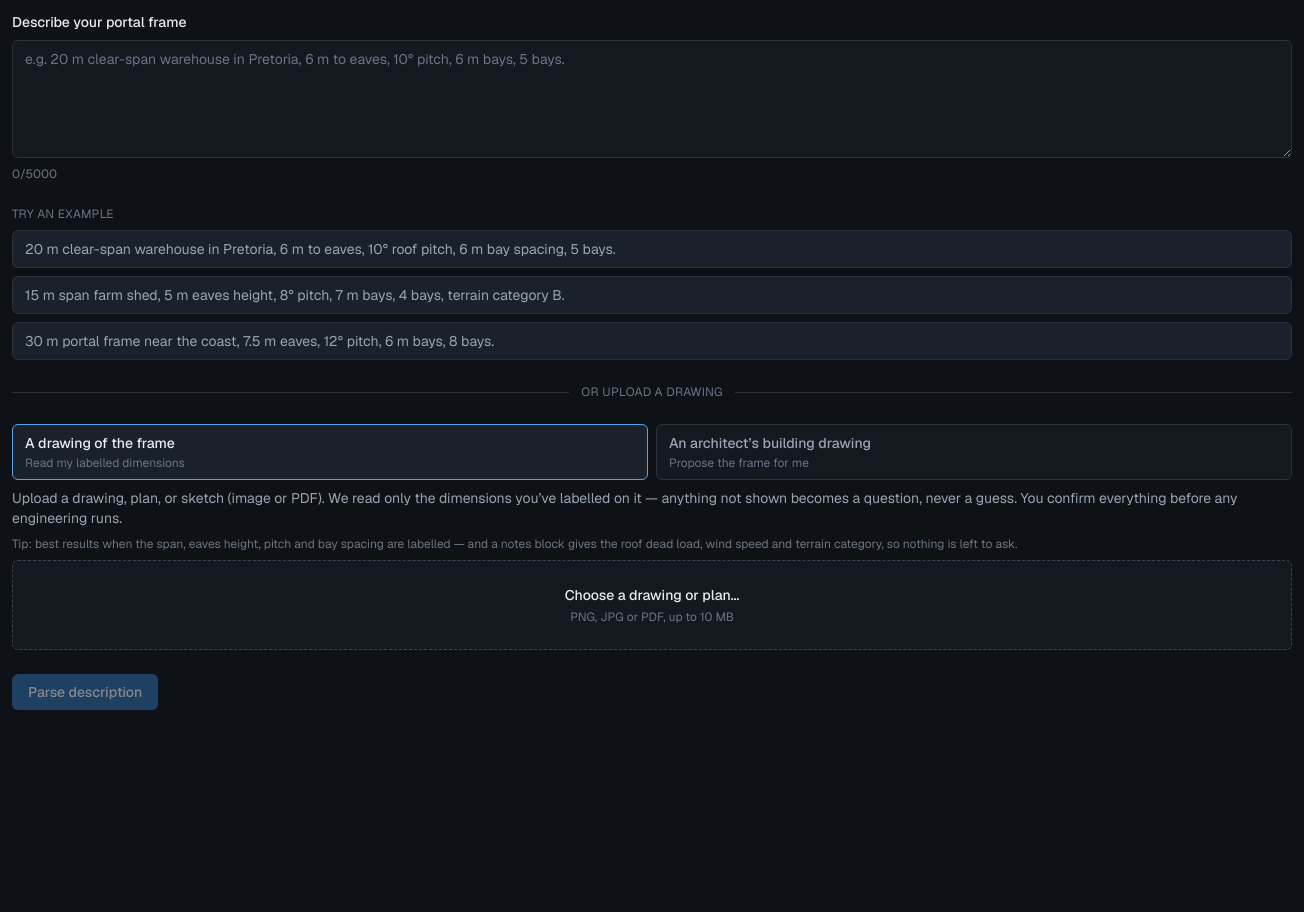
Scenario: DescribeStep › shows the scope note when out of scope
The image size is (1304, 912).
Type "a suspension bridge" into the text box labelled "Describe your portal frame". click: (652, 99)
box: x1=12 y1=40 x2=1292 y2=158
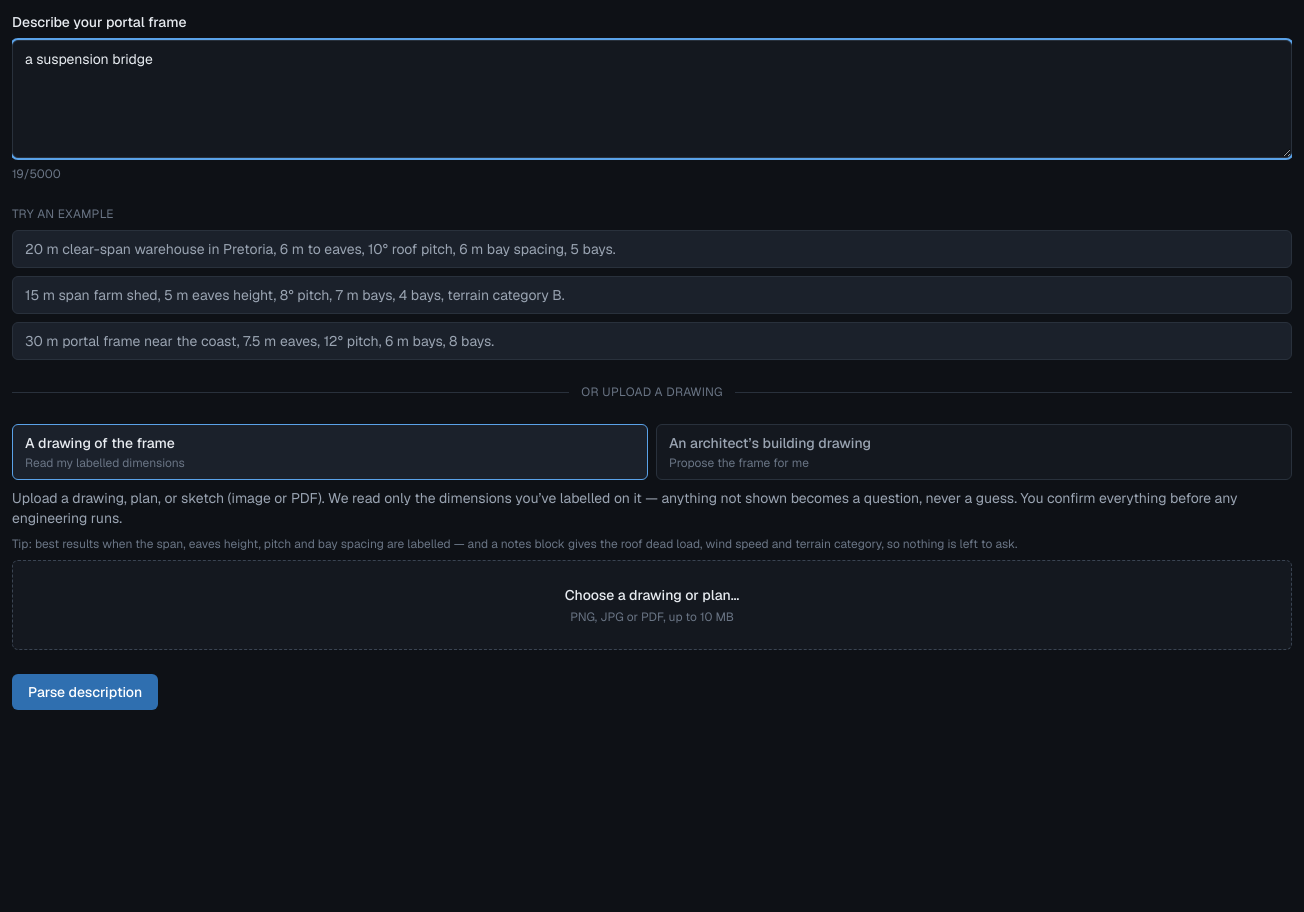
Click the button "Parse description". click: (85, 692)
box: x1=12 y1=674 x2=158 y2=710
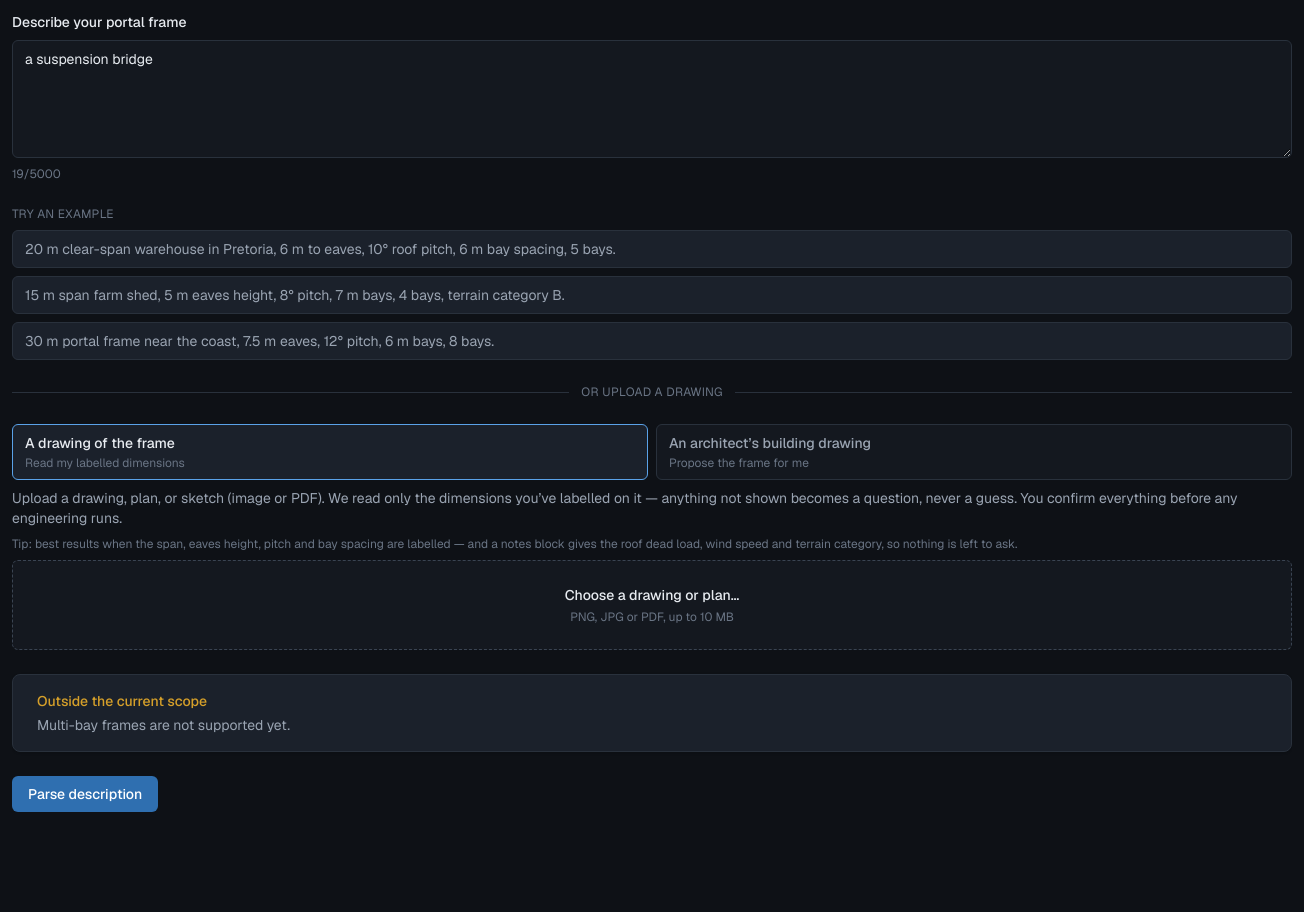
Check: the text "Multi-bay frames are not supported yet." is shown, box x1=37 y1=716 x2=290 y2=734
